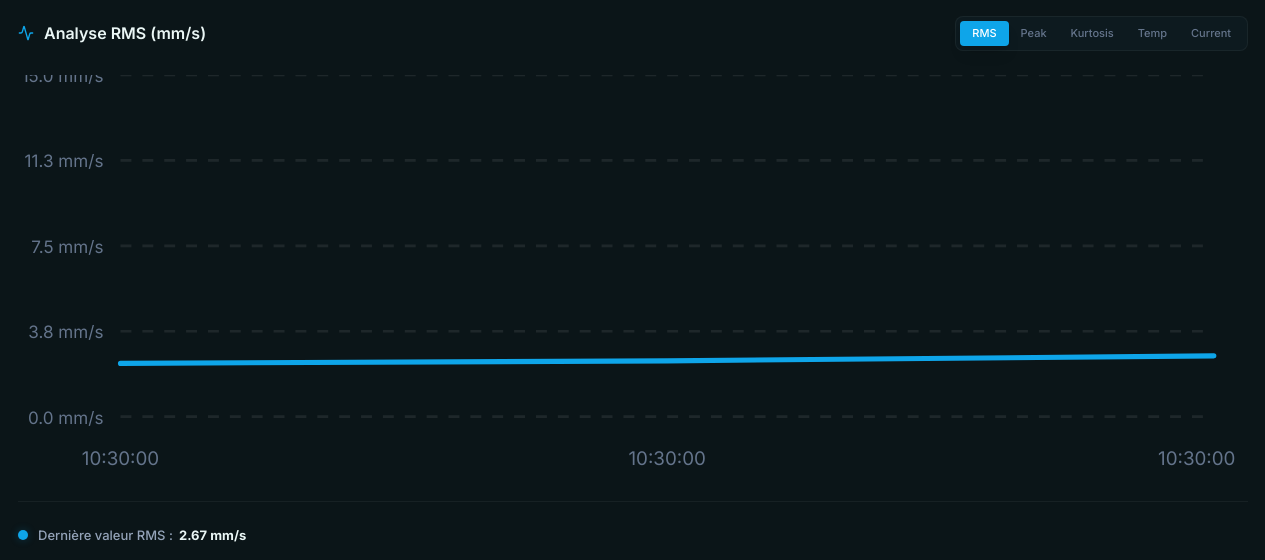
it: TendanceVibratoire › switches metric when a different tab is clicked
The width and height of the screenshot is (1265, 560).
What coordinates should you click on to do the following:
click the button "Temp"
I would click on:
 (1152, 33)
Its box is [1126,21,1179,46].
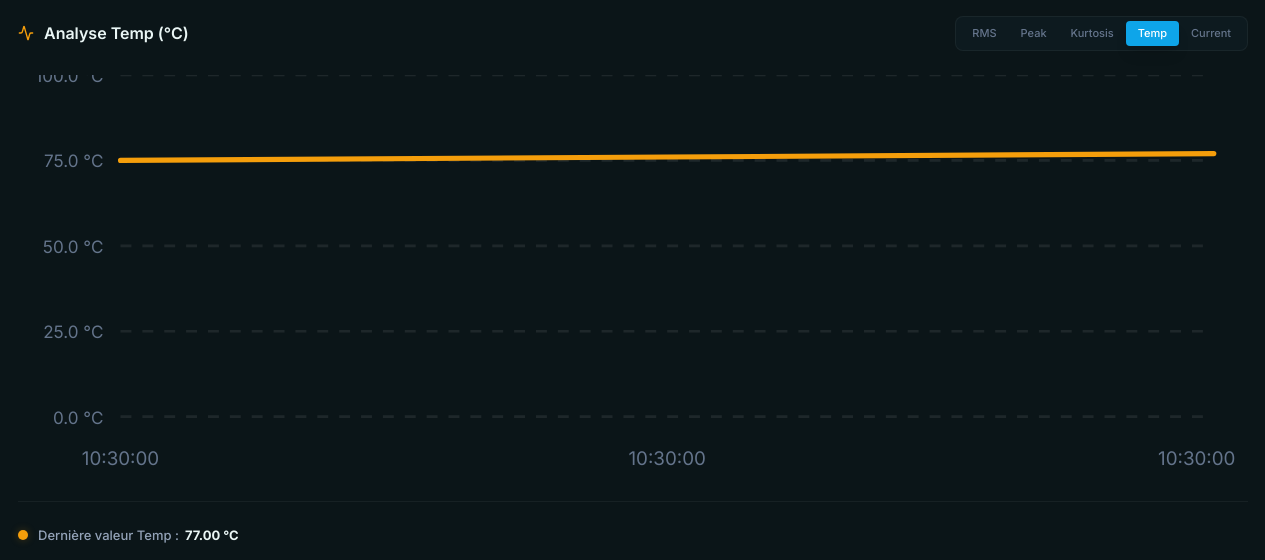
Result: the text "Analyse Temp (°C)" is shown at [44,21,189,45]
